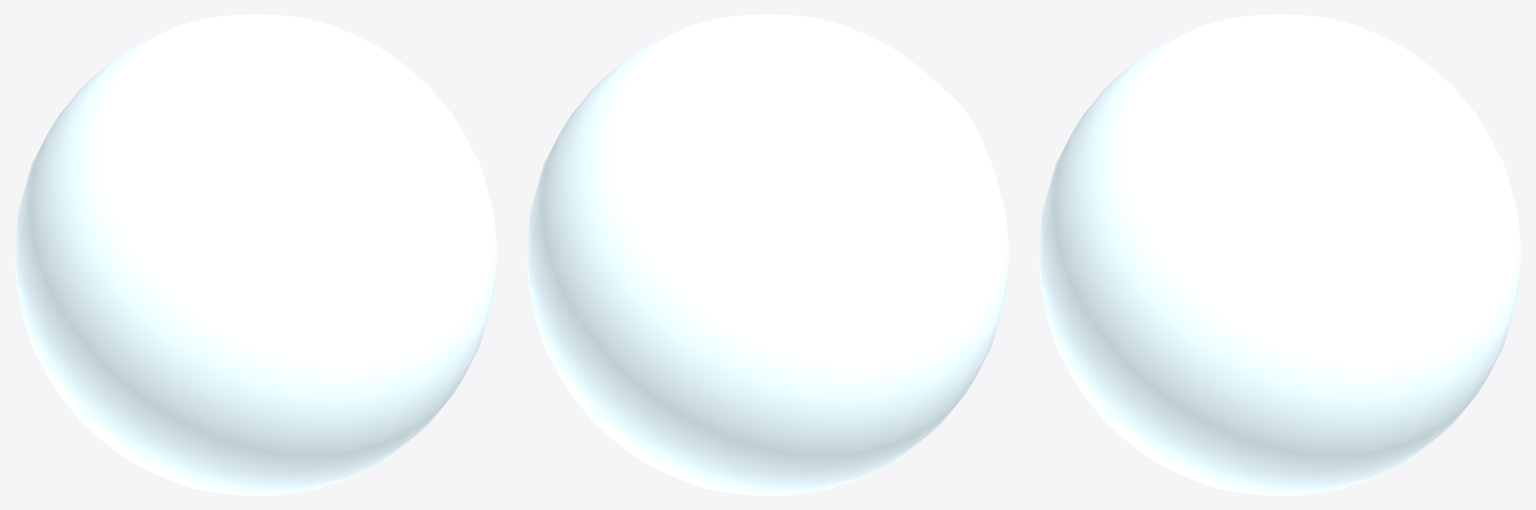
File: letter_bubble.glb
3 renders of one model, left to right at view 1: azimuth 30°, elevation 25°; view 2: azimuth 150°, elevation 25°; view 3: azimuth 270°, elevation 25°, orthographic.
Parts seen in each view (by area): view 1: letter_bubble; view 2: letter_bubble; view 3: letter_bubble.
Boxes of the visible parts, x1,y1,x2,y2 form: letter_bubble: (14,14,497,495); letter_bubble: (526,14,1009,495); letter_bubble: (1038,14,1521,495).
Bounding box in the file's own units: 0.9 × 0.9 × 0.9.
